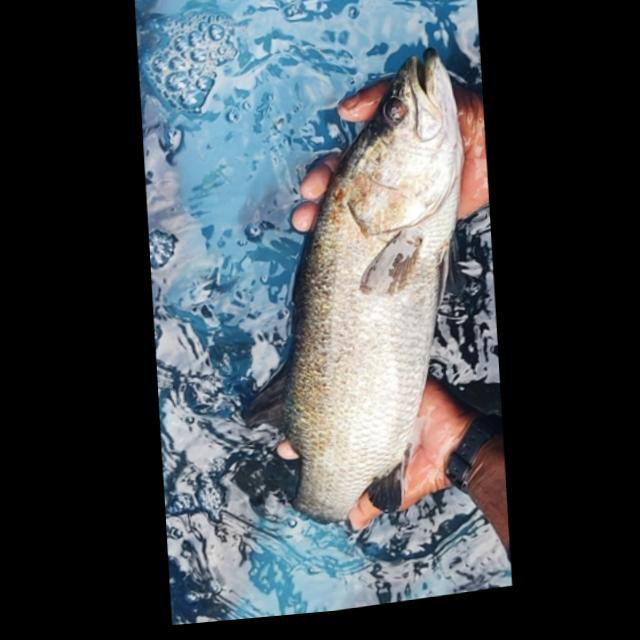Seabass: (224, 44, 481, 537)
